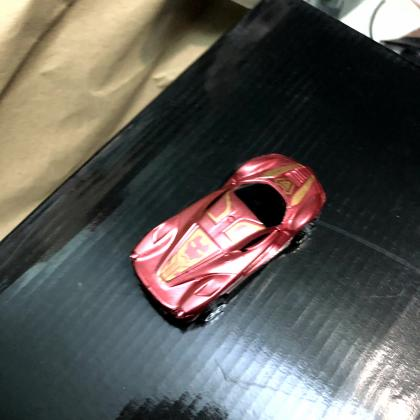Car: (129, 154, 328, 332)
